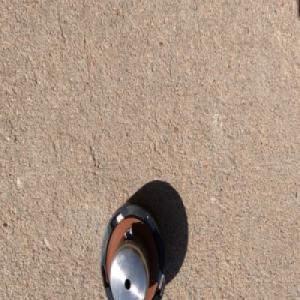FuelCap: (97, 198, 169, 300)
